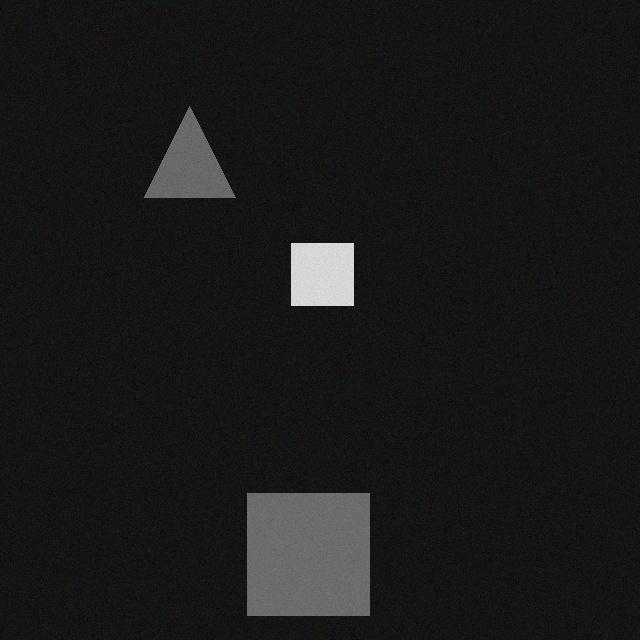square: (253, 483, 375, 605), (297, 233, 359, 295)
triangle: (150, 96, 241, 187)
